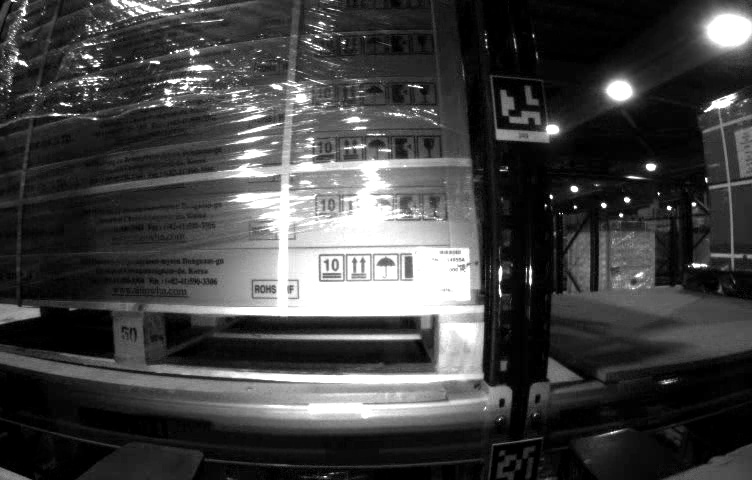True Barcode: (413, 247, 472, 302)
